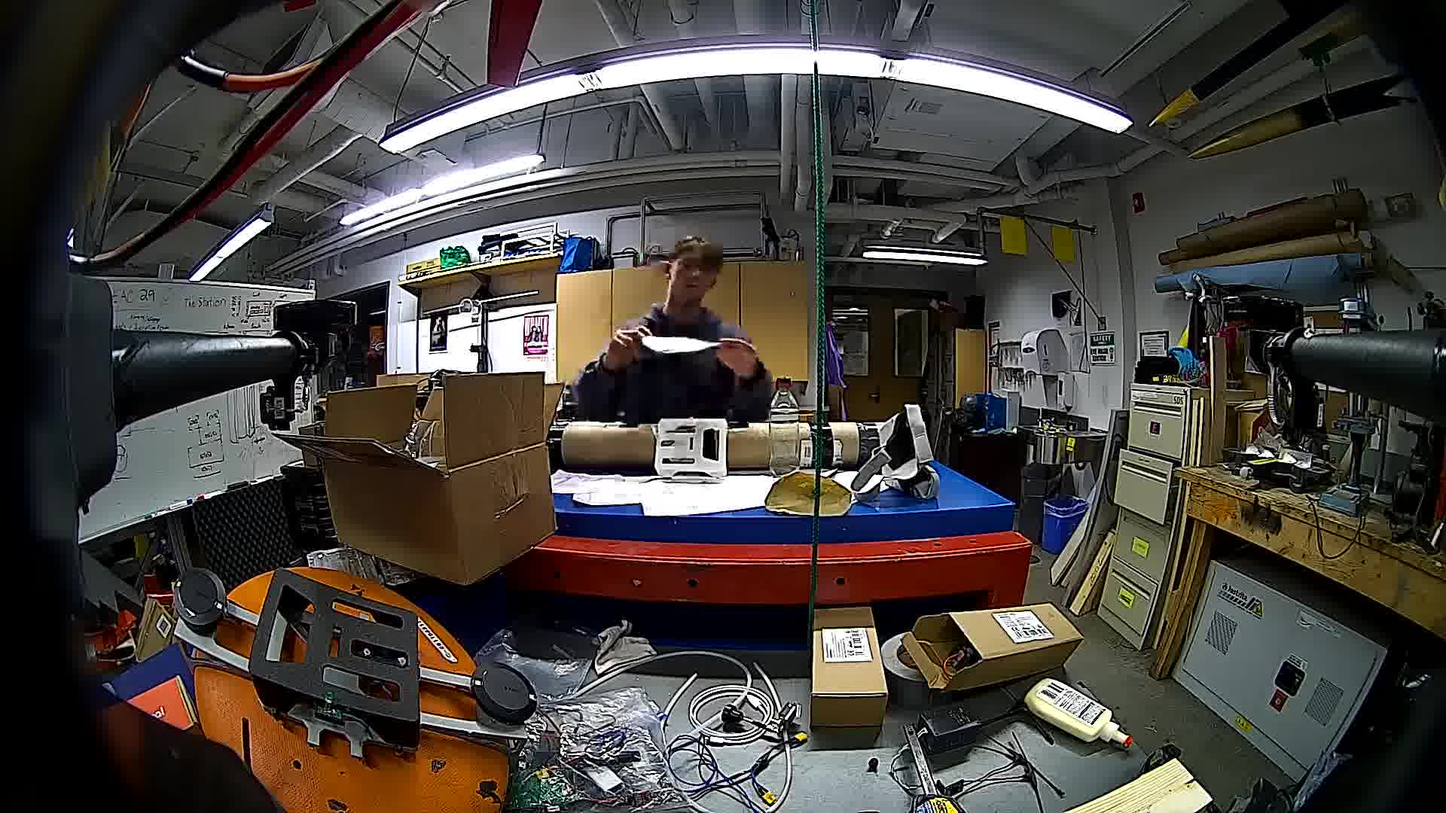Target: (640, 335, 721, 354)
